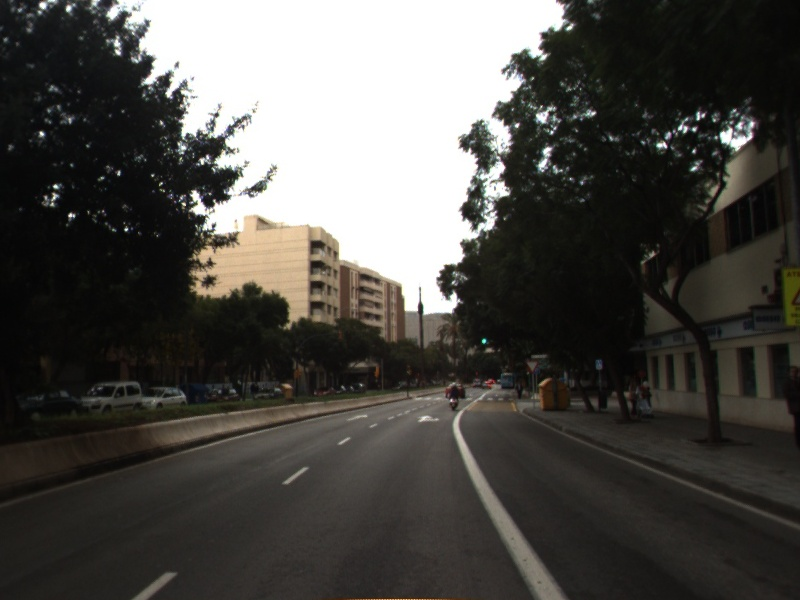STRAIGHT: (344, 412, 370, 423)
STRAIGHT_RIGHT: (414, 413, 442, 425)
